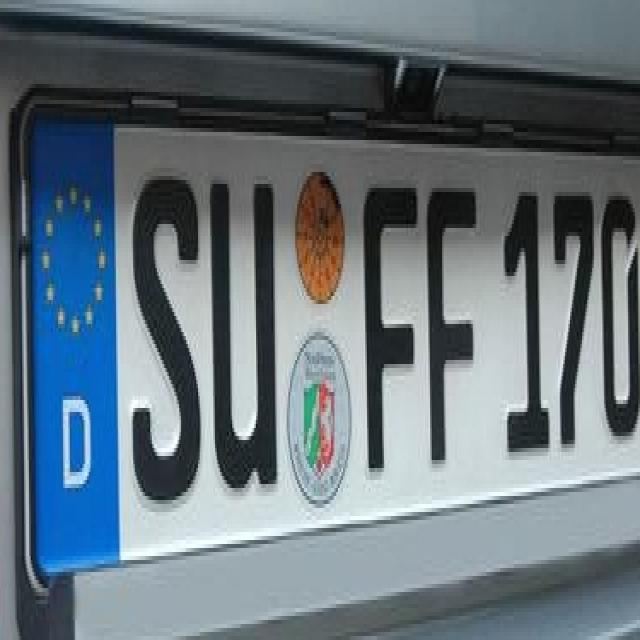Allemagne: (28, 114, 121, 556)
EU: (20, 102, 640, 568)
